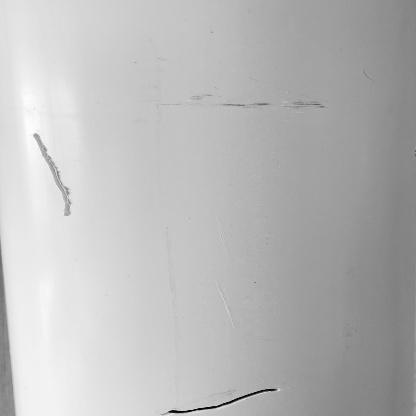fengxi: (164, 382, 286, 414)
sunshang: (27, 132, 74, 218)
